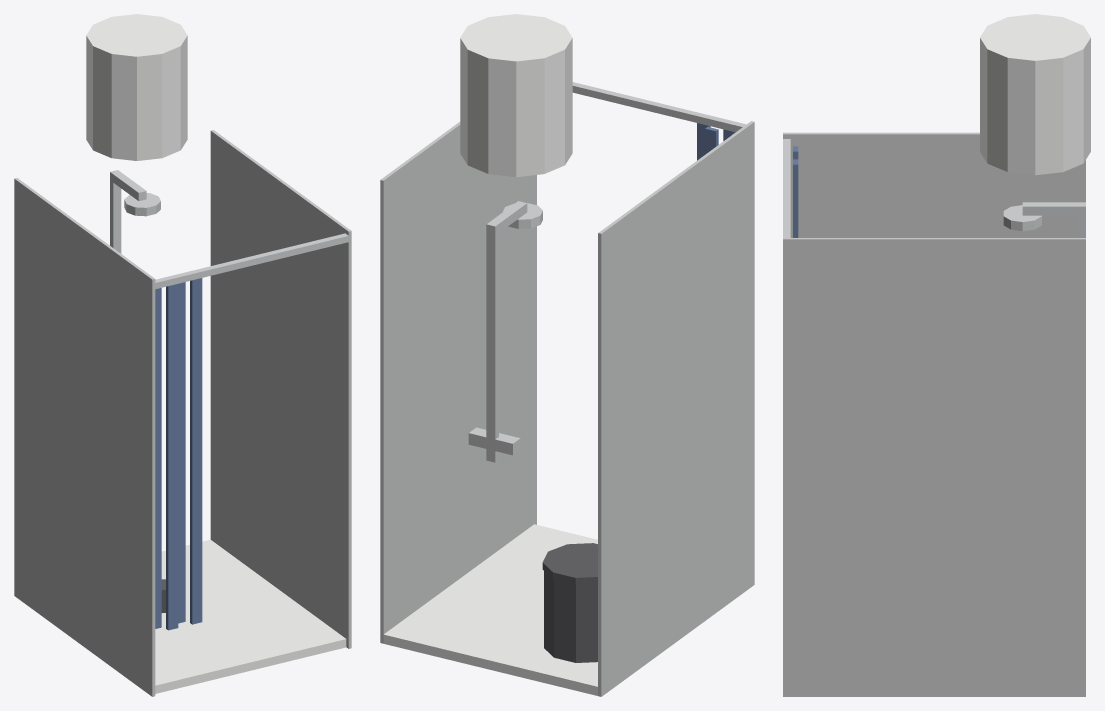
File: Shower_Cubicle.fbx
The picture shows the model from 3 angles, left to right: view 1: azimuth 30°, elevation 25°; view 2: azimuth 150°, elevation 25°; view 3: azimuth 270°, elevation 25°; orthographic projection. The views are drawn at different scales.
Parts seen in each view (by area): view 1: Shower_Cubicle; view 2: Shower_Cubicle; view 3: Shower_Cubicle.
Boxes of the visible parts, x1,y1,x2,y2 form: Shower_Cubicle: (14,14,351,696); Shower_Cubicle: (380,14,754,696); Shower_Cubicle: (783,14,1090,696).
Bounding box in the file's own units: 1 × 2.65 × 1.22.
